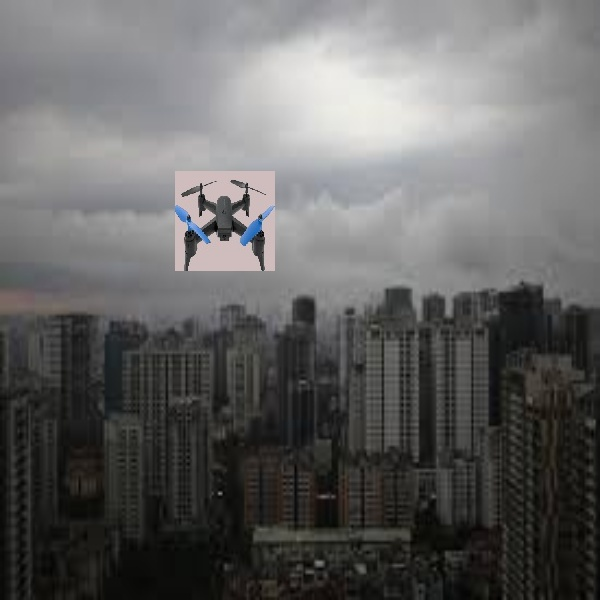drone: (172, 173, 276, 268)
